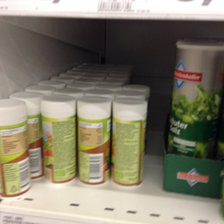spices: (166, 39, 224, 159), (40, 93, 78, 186), (76, 95, 112, 187), (1, 98, 33, 200), (113, 99, 147, 187)
